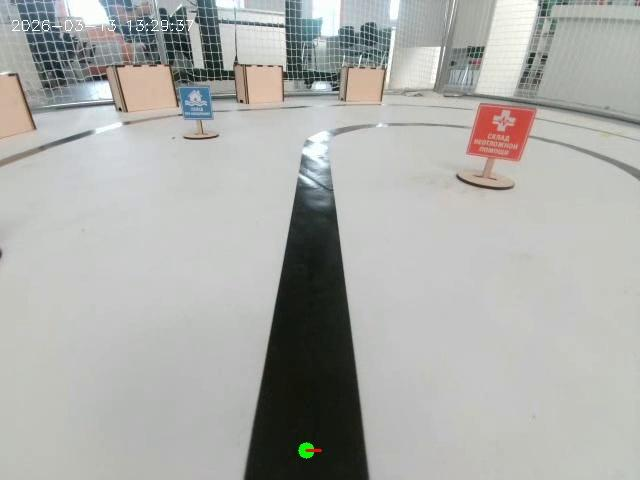flood: (168, 83, 223, 153)
medical: (469, 91, 540, 199)
